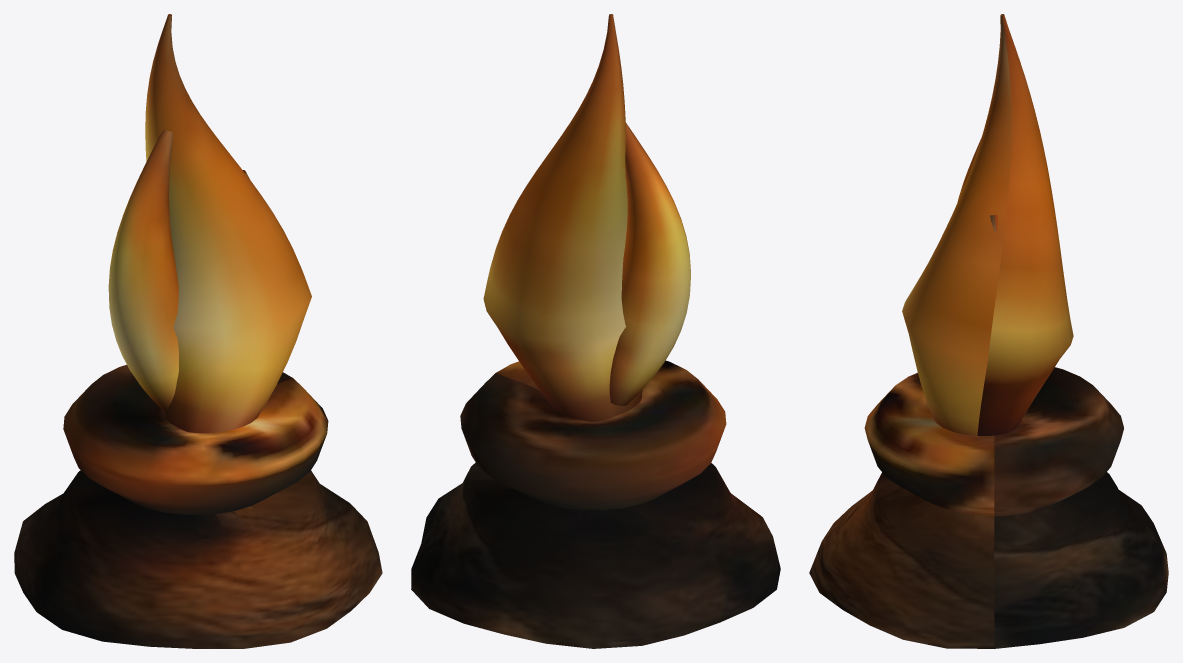
The model's file is pentecost-flame.glb.
The picture shows the model from 3 angles, left to right: view 1: azimuth 30°, elevation 25°; view 2: azimuth 150°, elevation 25°; view 3: azimuth 270°, elevation 25°; orthographic projection. The views are drawn at different scales.
Parts seen in each view (by area): view 1: HeroRelicMonument; view 2: HeroRelicMonument; view 3: HeroRelicMonument.
Boxes of the visible parts, x1,y1,x2,y2 form: HeroRelicMonument: (14,14,382,648); HeroRelicMonument: (411,14,780,648); HeroRelicMonument: (809,14,1168,648).
Bounding box in the file's own units: 1.44 × 2.42 × 1.44.
1 material, 1 textured.
